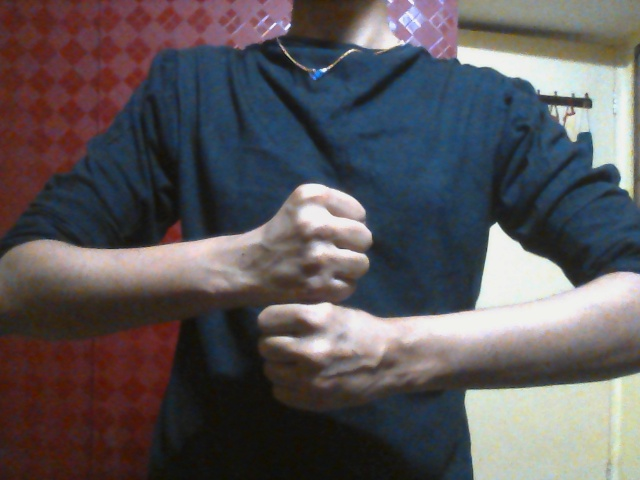G: (254, 182, 392, 413)
